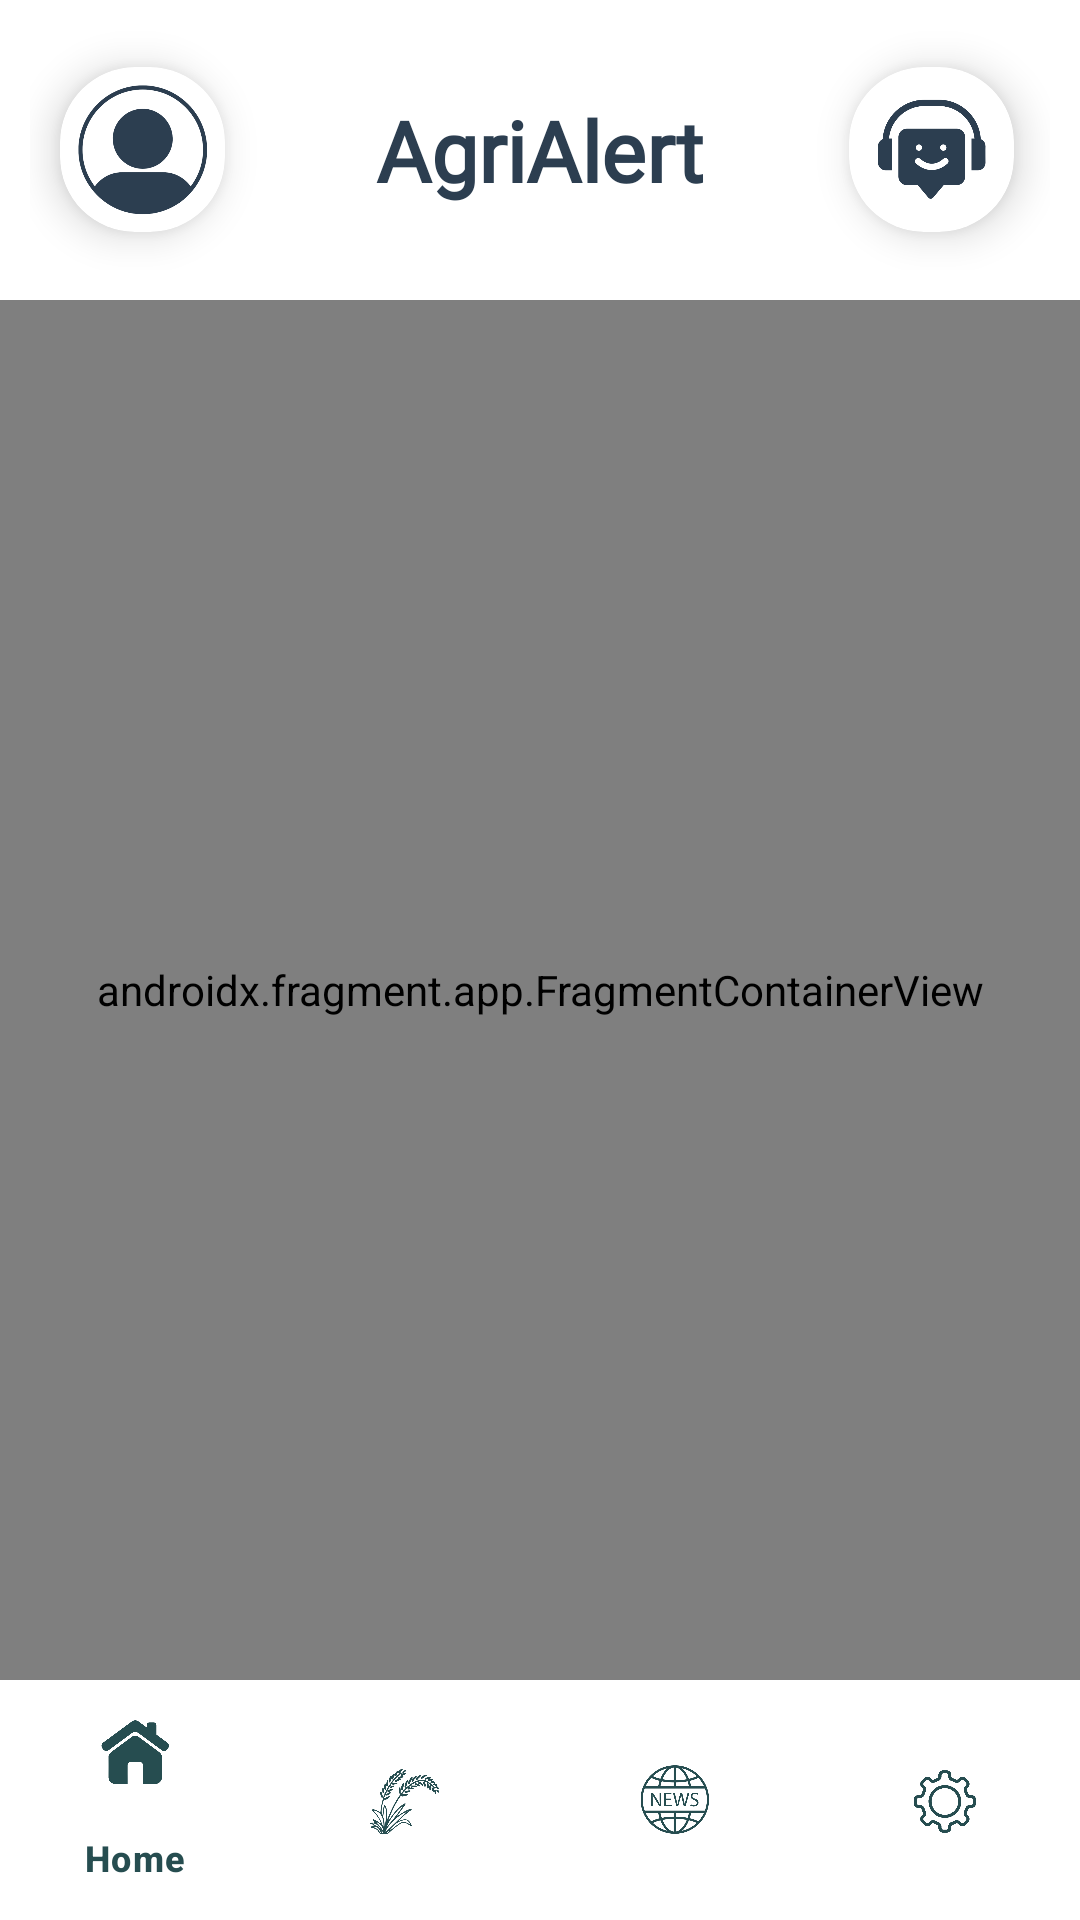

Icon click points for this 1080w x 1920h phone screenshot, format point (x, y):
Chatbot Icon: point (946, 163)
Profile Icon: point (133, 158)
